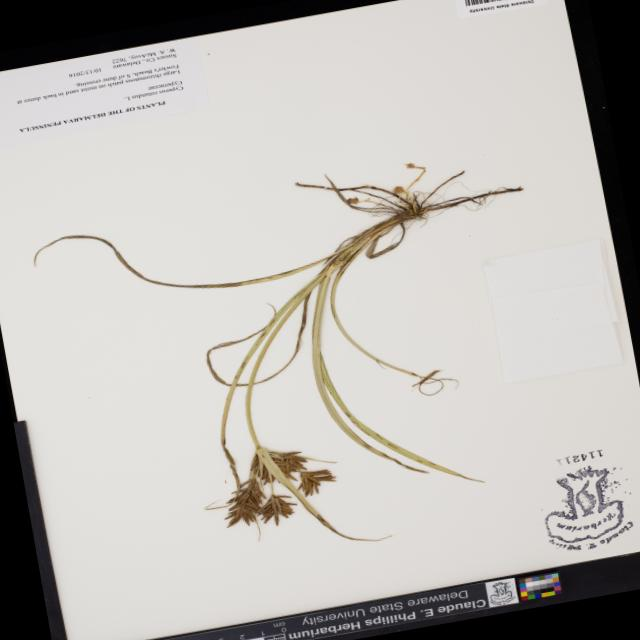cyperus: (193, 428, 354, 550)
